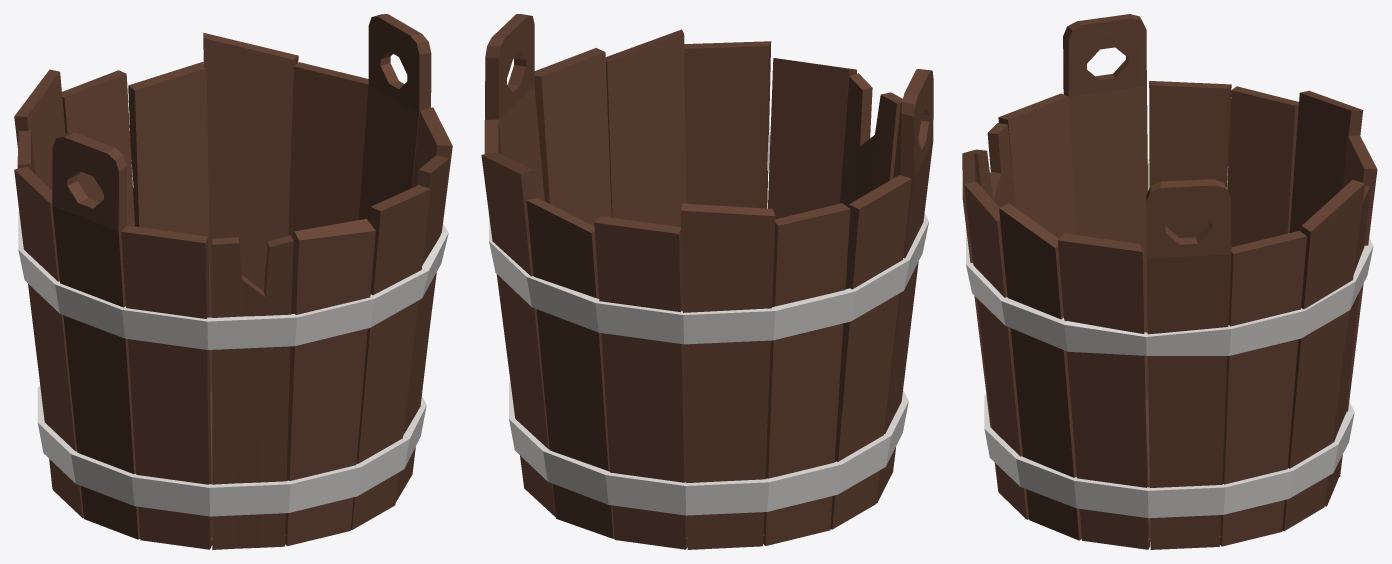
Rendered from Bucket_1.fbx.
The picture shows the model from 3 angles, left to right: view 1: azimuth 30°, elevation 25°; view 2: azimuth 150°, elevation 25°; view 3: azimuth 270°, elevation 25°; orthographic projection. The views are drawn at different scales.
Visible parts, largest first — view 1: Bucket_1; view 2: Bucket_1; view 3: Bucket_1.
Boxes of the visible parts, x1,y1,x2,y2 form: Bucket_1: [14, 14, 452, 549]; Bucket_1: [481, 14, 933, 549]; Bucket_1: [962, 14, 1377, 549].
Size of the model in its own units: 0.4583 by 0.4577 by 0.4552.
